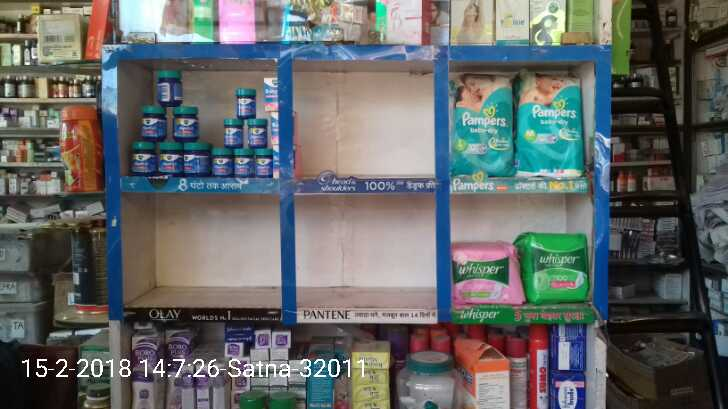pharmacy: (446, 71, 513, 178), (518, 73, 582, 178), (516, 233, 590, 301), (451, 239, 524, 307), (150, 67, 184, 107), (170, 104, 200, 142), (138, 100, 164, 140), (128, 139, 153, 175), (227, 145, 253, 179), (182, 142, 208, 175), (156, 142, 182, 175), (208, 145, 234, 177), (248, 116, 269, 148), (234, 85, 256, 115), (248, 116, 267, 148), (225, 115, 242, 146), (256, 150, 270, 176)
